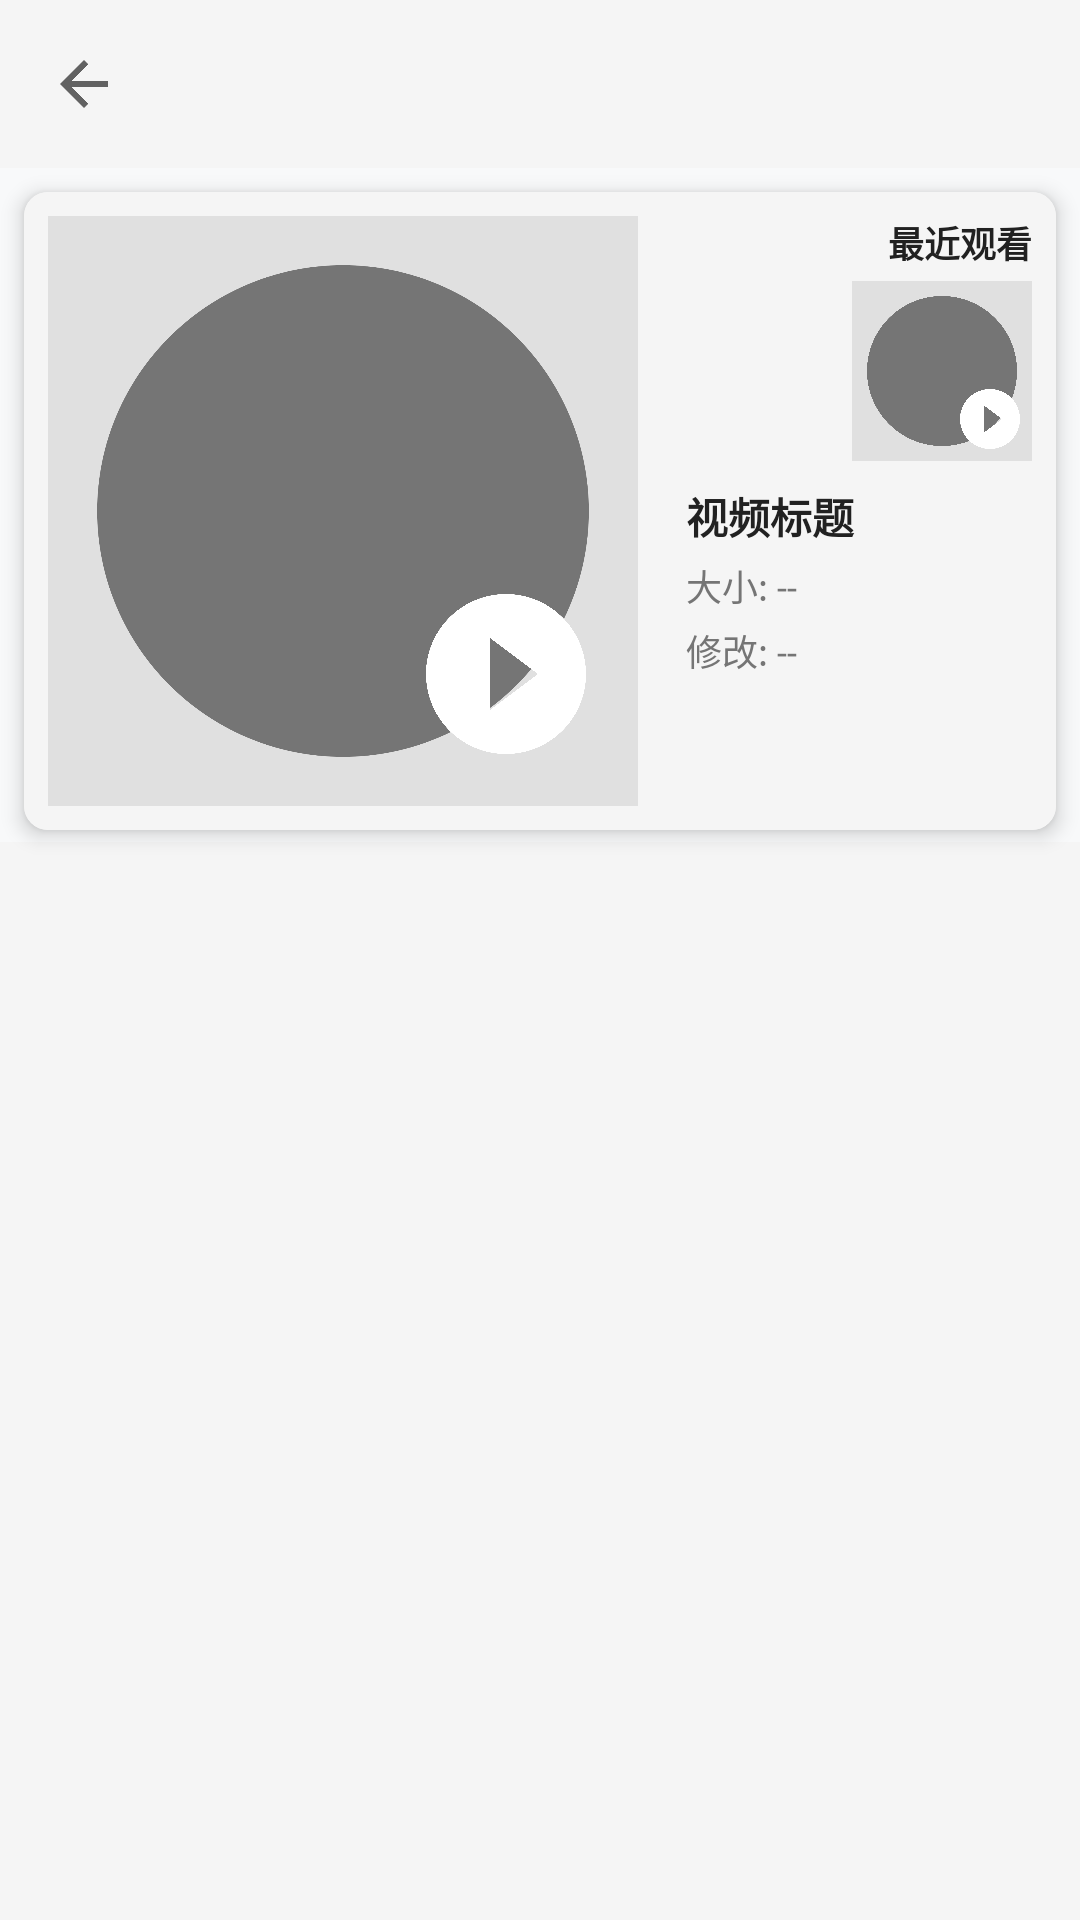

Point at icon controls on the screen. Image size 1080px x 1920px, points as (x=x, y=y).
play circle: (x=990, y=419), (x=506, y=674)
